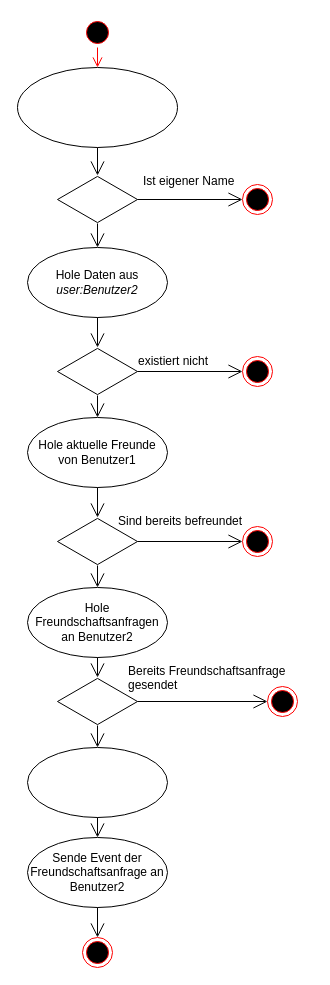
This 330x985 diagram has some shape labels left out. The shapes that lost their labels are listed below. From the top down, each one's centre as x and y in pixels, then its label:
the point at 97,107: send_friend_request mit Benutzernamen Bsp:Benutzer1 fragt Benutzer2 an
the point at 97,782: Speichere Freundschaftsanfrage in Benutzer2
